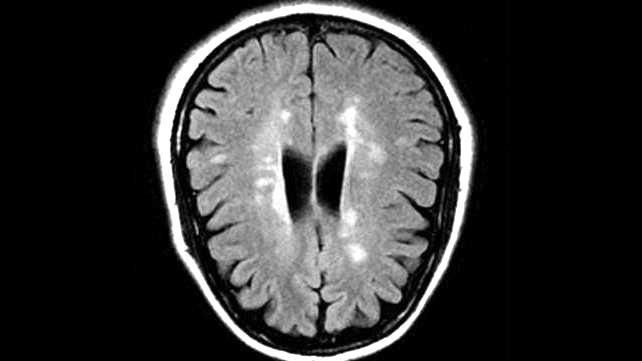Normal_Brain: (130, 1, 568, 361)
